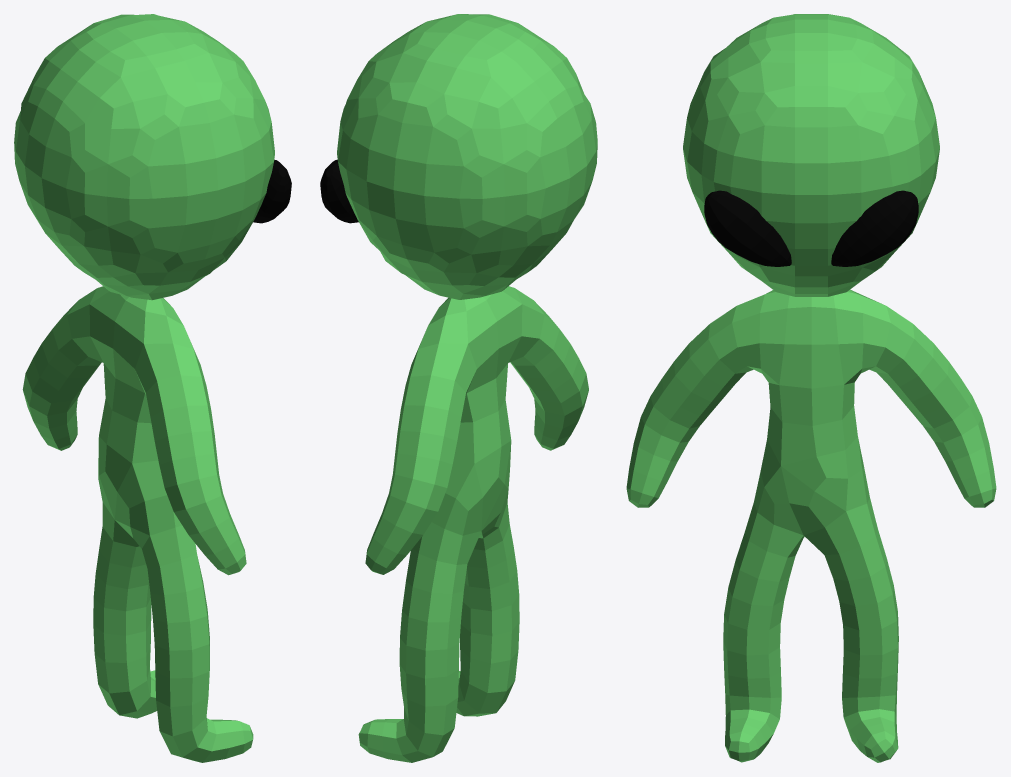
Rendered from Customer.fbx.
3 views of the same model, side by side, from view 1: azimuth 30°, elevation 25°; view 2: azimuth 150°, elevation 25°; view 3: azimuth 270°, elevation 25° (orthographic).
Parts seen in each view (by area): view 1: Customer; view 2: Customer; view 3: Customer.
Part boxes in pixels (x1,y1,x2,y2): Customer: (14,14,291,762); Customer: (320,14,597,762); Customer: (626,14,996,762).
Bounding box in the file's own units: 57.63 × 180 × 85.45.
